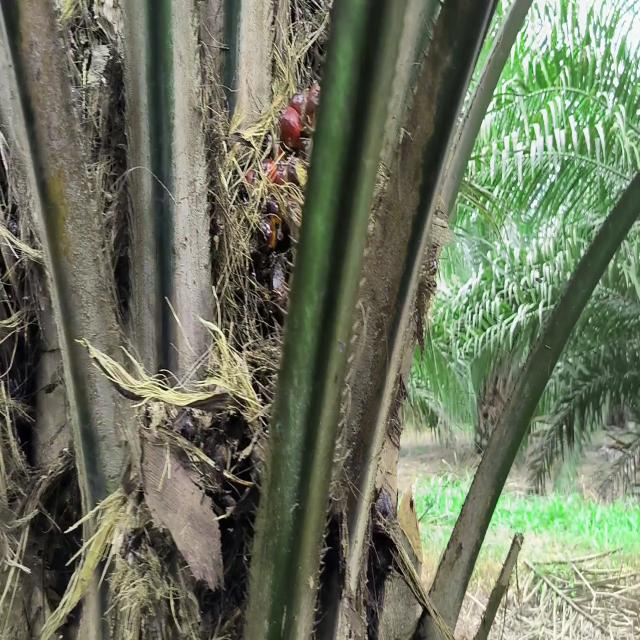palm-oil: (265, 64, 332, 335)
